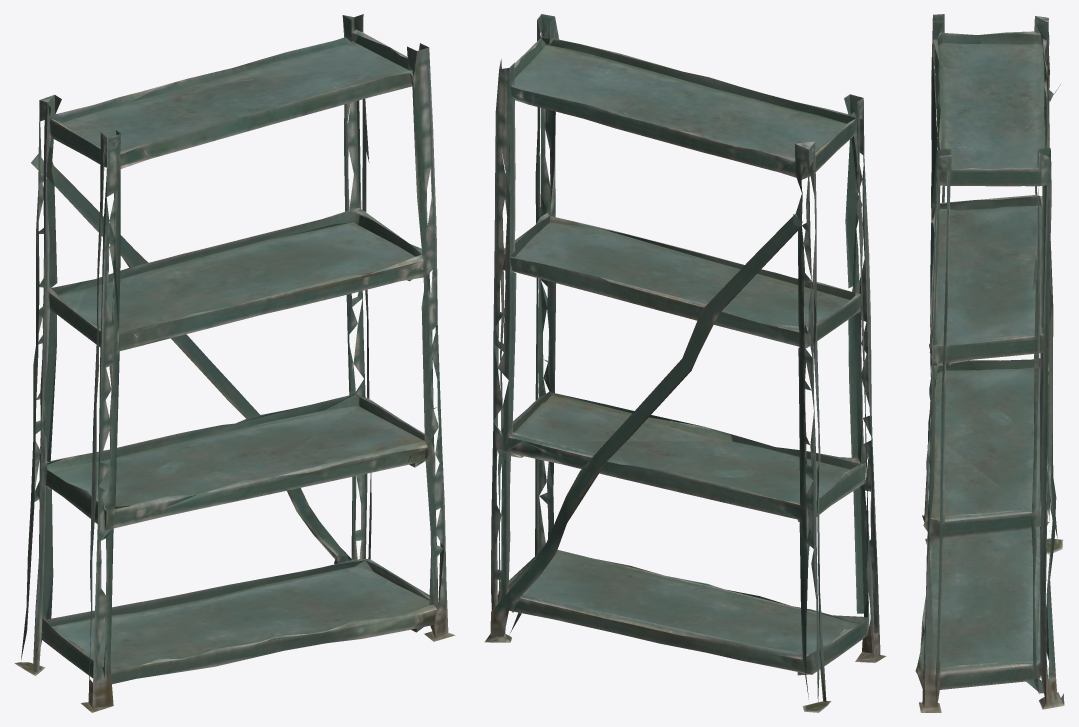
File: shelf.glb
3 renders of one model, left to right at view 1: azimuth 30°, elevation 25°; view 2: azimuth 150°, elevation 25°; view 3: azimuth 270°, elevation 25°, orthographic. The views are drawn at different scales.
Parts seen in each view (by area): view 1: shelf; view 2: shelf; view 3: shelf.
Part boxes in pixels (bbox=[...]): shelf: bbox=[14, 14, 455, 712]; shelf: bbox=[484, 14, 886, 712]; shelf: bbox=[915, 14, 1064, 712].
Bounding box in the file's own units: 1.2 × 1.85 × 0.45.
Materials: 1 (1 with a texture image).
